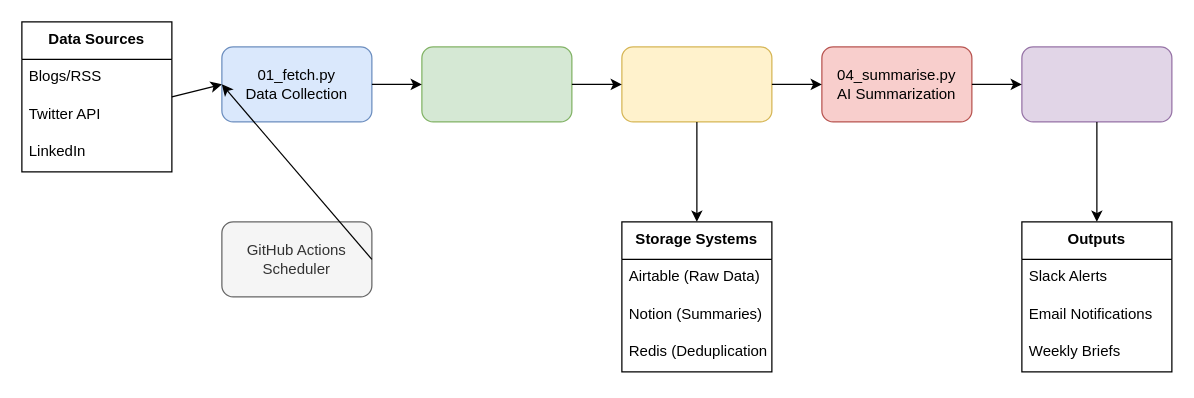
This 1194x398 diagram has some shape labels left out. The shapes that lost their labels are listed below. From the top down, each one's centre as x and y in pixels, then its label:
At point 496,84: "02_parse.py Data Analysis".
At point 696,84: "03_store.py Data Storage".
At point 1096,84: "05_alert.py Alerting".
